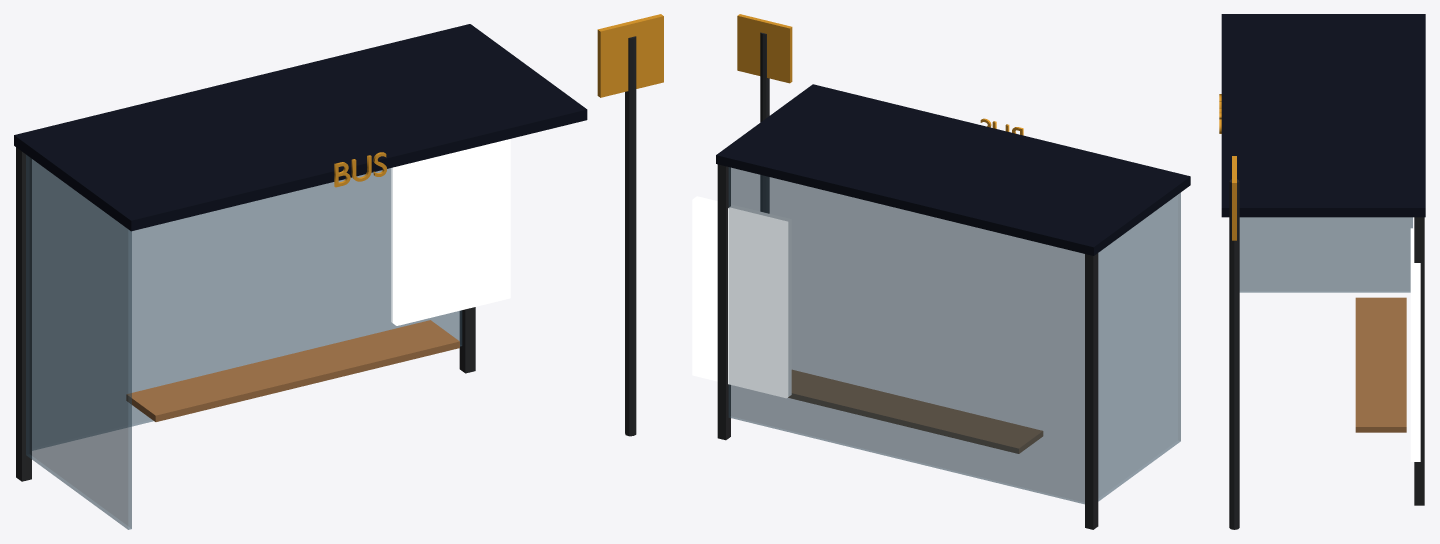
File: PROP_REAL_BusStop.glb
3 views of the same model, side by side, from view 1: azimuth 30°, elevation 25°; view 2: azimuth 150°, elevation 25°; view 3: azimuth 270°, elevation 25° (orthographic). The views are drawn at different scales.
Visible parts, largest first — view 1: PROP_REAL_BusStop; view 2: PROP_REAL_BusStop; view 3: PROP_REAL_BusStop.
Part boxes in pixels (x1,y1,x2,y2): PROP_REAL_BusStop: [14, 14, 663, 529]; PROP_REAL_BusStop: [692, 14, 1190, 529]; PROP_REAL_BusStop: [1219, 14, 1425, 529].
Bounding box in the file's own units: 4.25 × 3.1 × 1.62.
